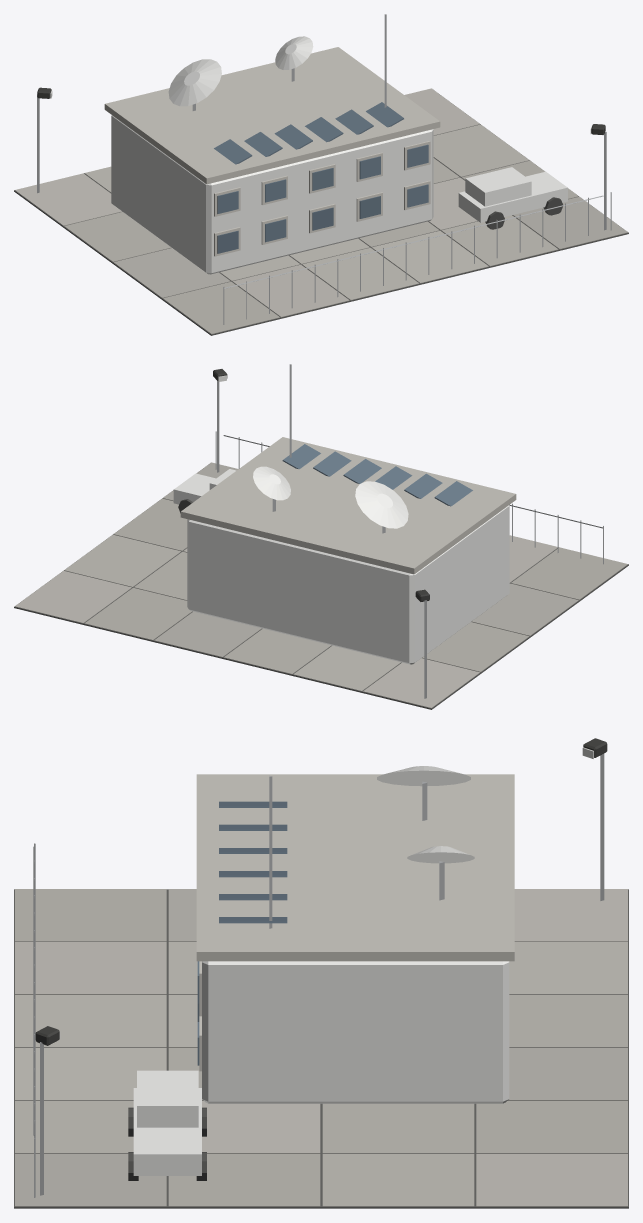
Rendered from b_lab.glb.
3 views of the same model, one above another, from view 1: azimuth 30°, elevation 25°; view 2: azimuth 150°, elevation 25°; view 3: azimuth 270°, elevation 25° (orthographic). The views are drawn at different scales.
Parts seen in each view (by area): view 1: hull; view 2: hull; view 3: hull.
Part boxes in pixels (bbox=[...]): hull: bbox=[14, 14, 628, 335]; hull: bbox=[14, 364, 628, 709]; hull: bbox=[14, 738, 628, 1208].
Bounding box in the file's own units: 22 × 10 × 18.
